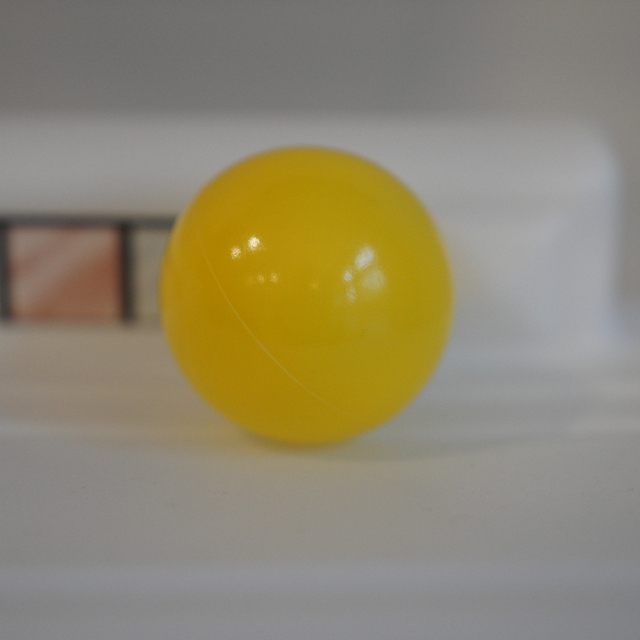Ball: (155, 144, 453, 447)
